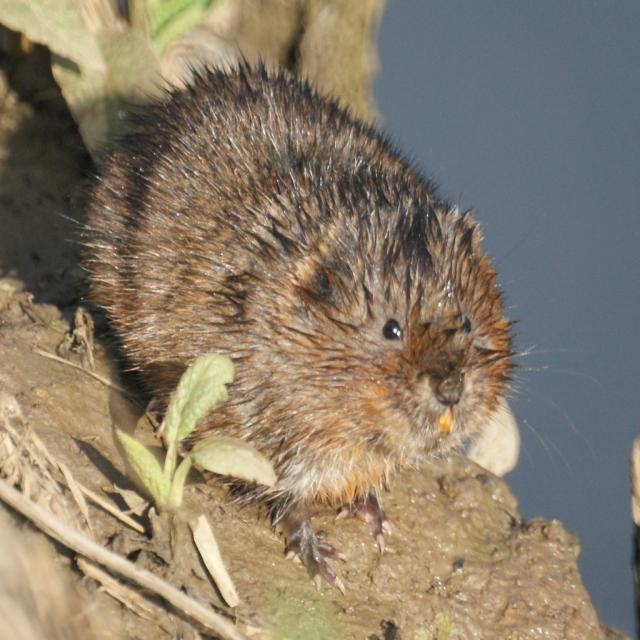rat: (52, 30, 602, 596)
